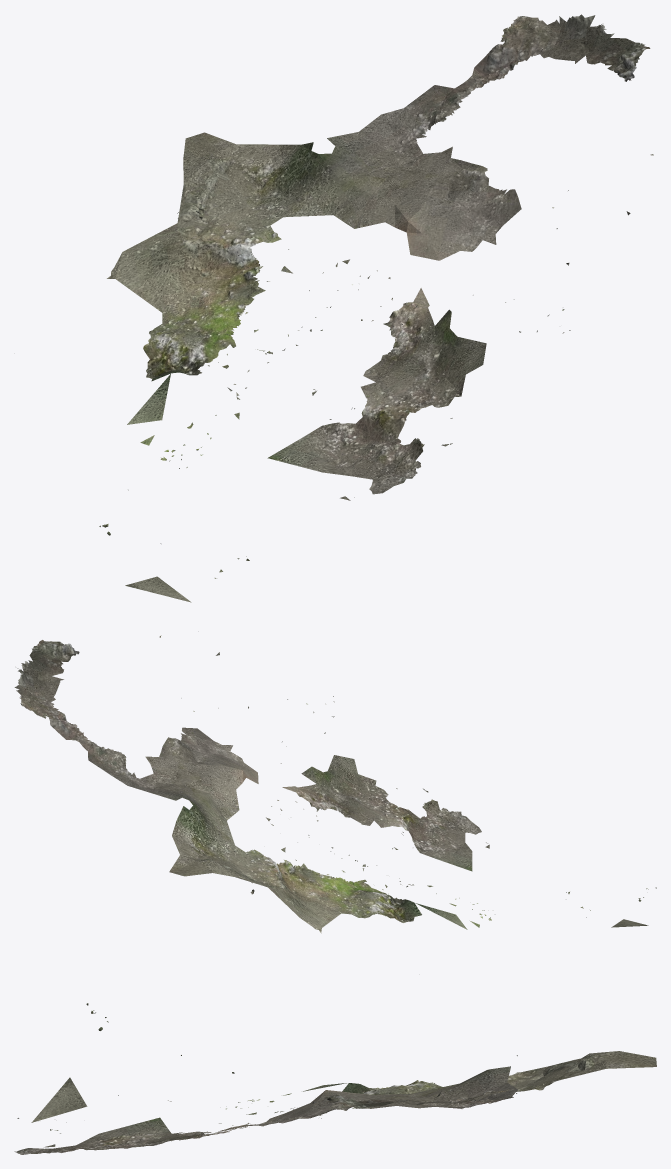
The picture shows the model from 3 angles, top to bottom: view 1: azimuth 30°, elevation 25°; view 2: azimuth 150°, elevation 25°; view 3: azimuth 270°, elevation 25°; orthographic projection. The views are drawn at different scales.
Size of the model in its own units: 61.81 by 27.51 by 46.32.
Materials: 1 (1 with a texture image).
